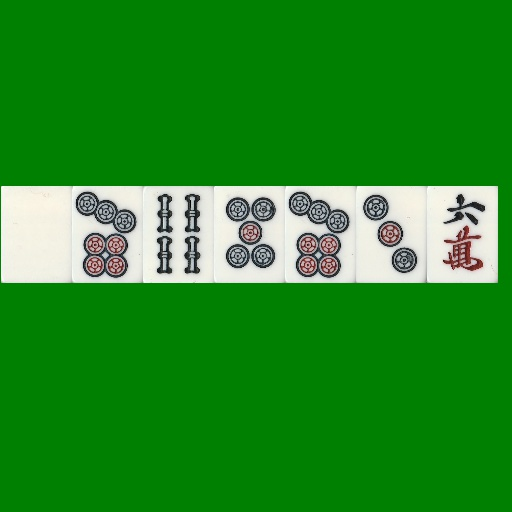3p: (356, 186, 427, 283)
4s: (143, 186, 214, 283)
5p: (214, 186, 285, 283)
6m: (427, 186, 498, 283)
7p: (72, 186, 143, 283), (285, 186, 356, 283)
white: (1, 186, 72, 283)
